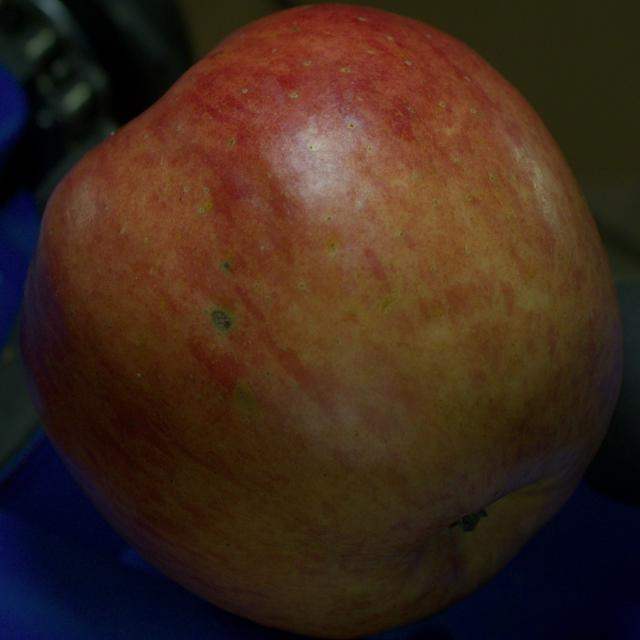apple: (21, 6, 622, 638)
pest: (212, 310, 231, 329)
